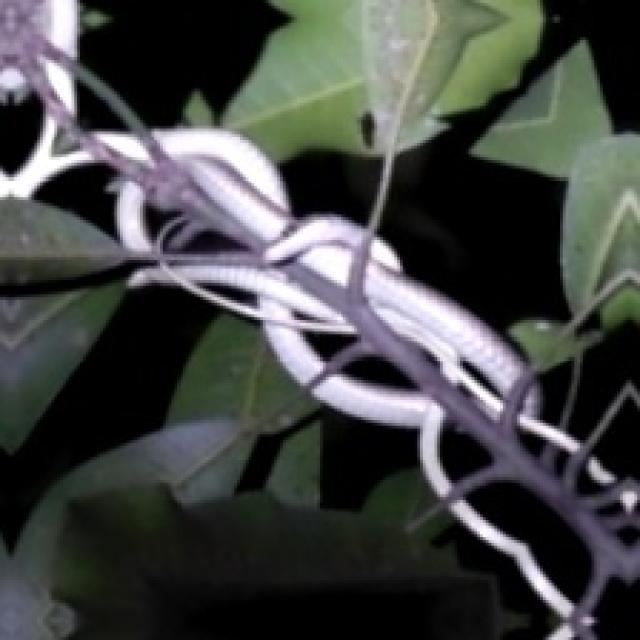paradise tree snake: (18, 31, 640, 579)
